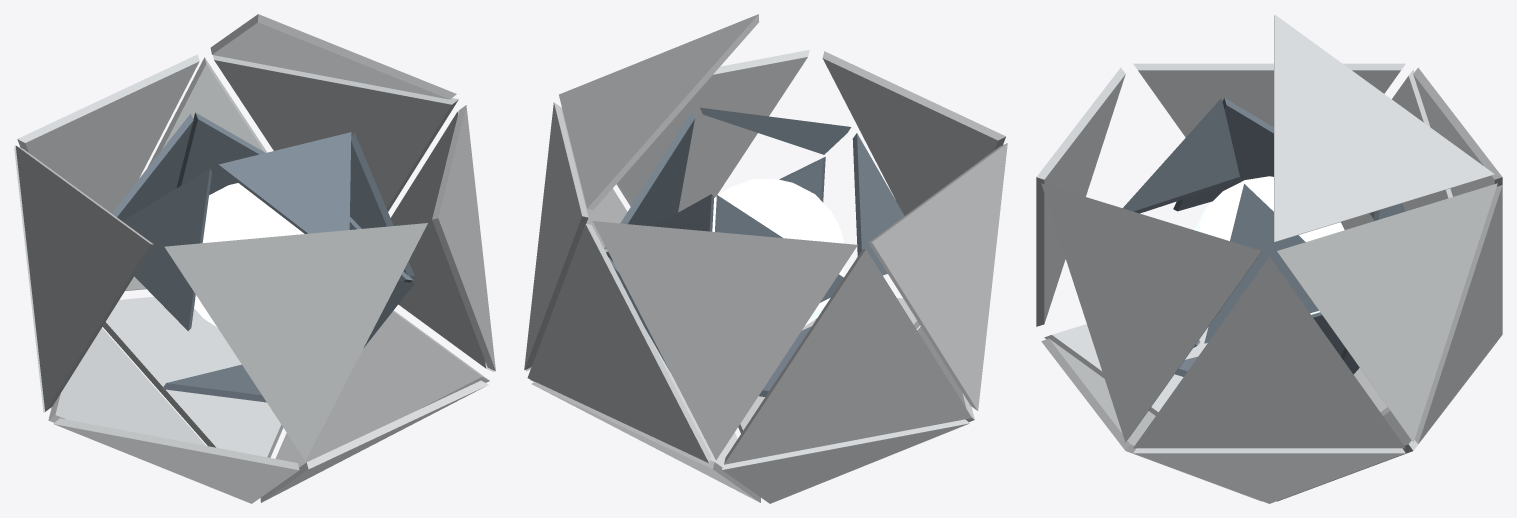
Rendered from god_echo.glb.
The picture shows the model from 3 angles, left to right: view 1: azimuth 30°, elevation 25°; view 2: azimuth 150°, elevation 25°; view 3: azimuth 270°, elevation 25°; orthographic projection.
Parts seen in each view (by area): view 1: Echo, EchoInnerShell, EchoCore; view 2: Echo, EchoInnerShell, EchoCore; view 3: Echo, EchoInnerShell, EchoCore.
Boxes of the visible parts, x1,y1,x2,y2 form: Echo: (14,14,495,503); EchoInnerShell: (112,112,414,402); EchoCore: (194,183,304,327); Echo: (524,14,1007,503); EchoInnerShell: (604,107,904,396); EchoCore: (712,178,844,325); Echo: (1036,14,1502,503); EchoInnerShell: (1123,98,1404,376); EchoCore: (1194,176,1344,314).
Size of the model in its own units: 1.6 by 1.76 by 1.52.
